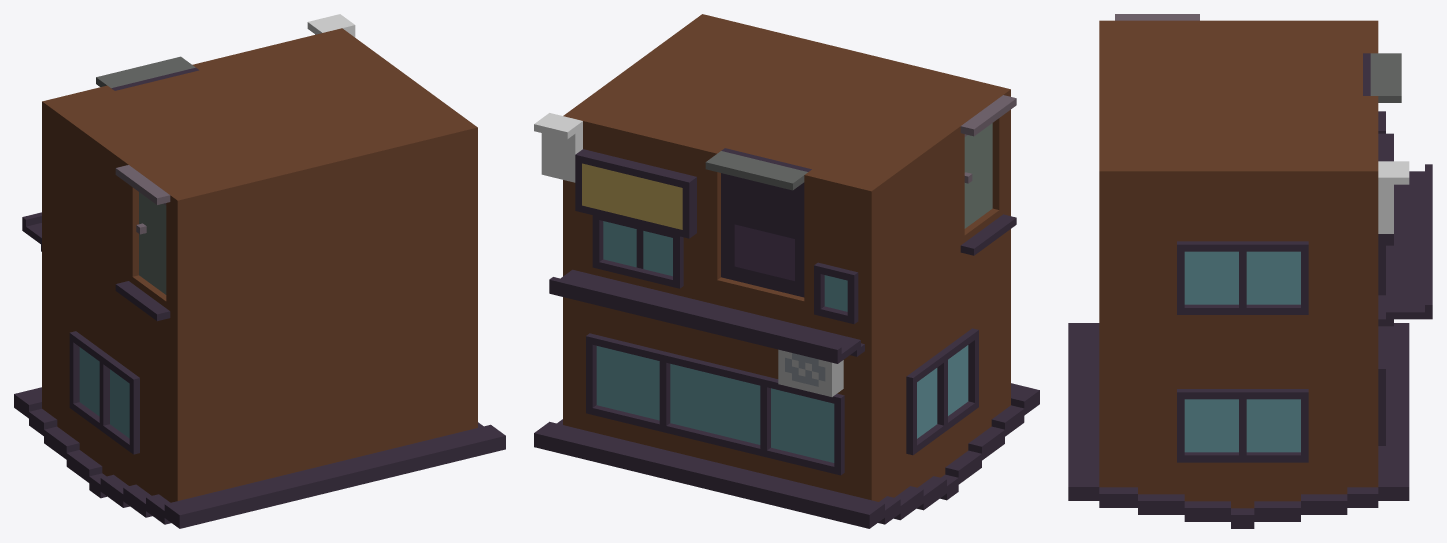
File: Matsumoto9.fbx
The picture shows the model from 3 angles, left to right: view 1: azimuth 30°, elevation 25°; view 2: azimuth 150°, elevation 25°; view 3: azimuth 270°, elevation 25°; orthographic projection. The views are drawn at different scales.
Visible parts, largest first — view 1: palette; view 2: palette; view 3: palette.
Boxes of the visible parts, bbox=[...] form: palette: bbox=[14, 14, 505, 528]; palette: bbox=[534, 14, 1039, 528]; palette: bbox=[1068, 14, 1432, 528].
Size of the model in its own units: 50 by 50 by 47.
1 material, 1 textured.
